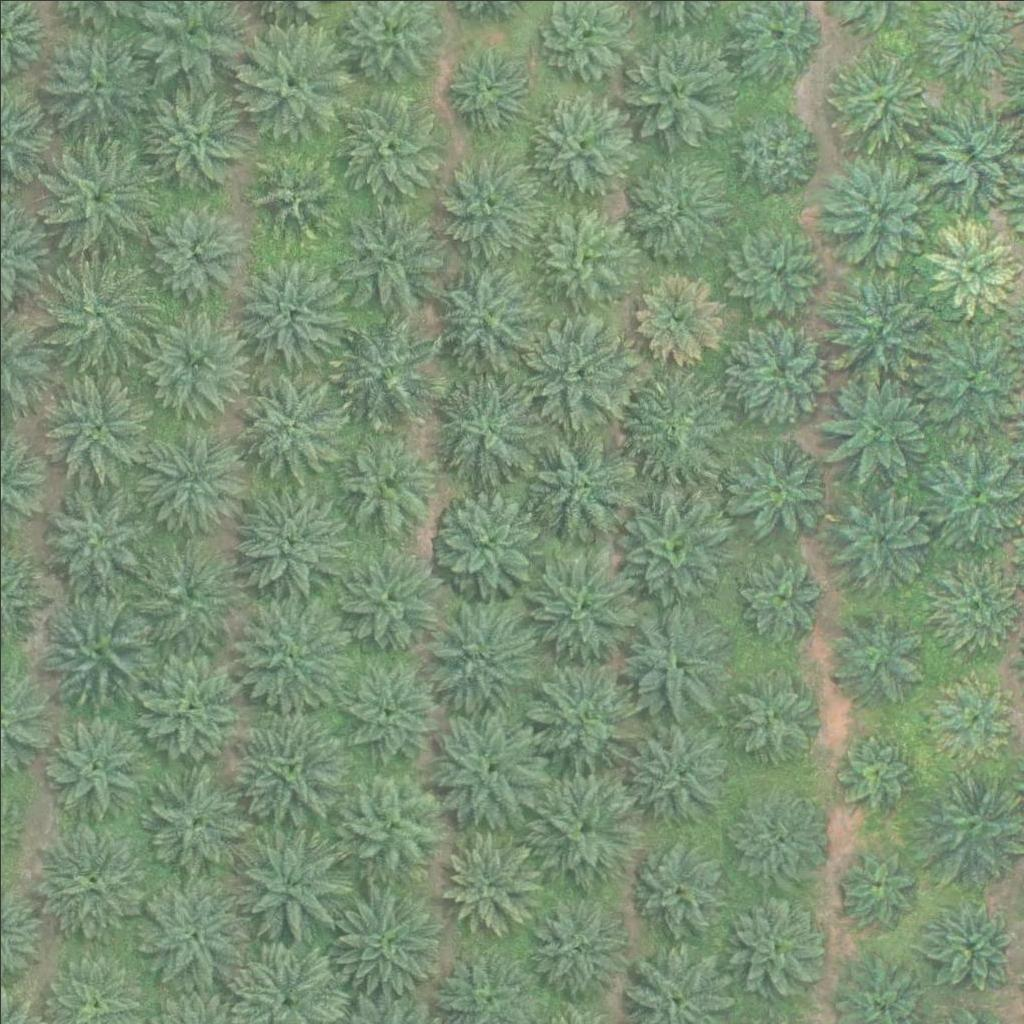Kelapa_Sawit: (819, 370, 932, 484), (336, 769, 449, 883), (231, 711, 344, 825), (231, 593, 344, 707), (132, 537, 245, 651), (131, 422, 244, 536), (822, 147, 935, 261), (232, 831, 345, 944), (330, 882, 443, 995), (623, 830, 736, 943), (622, 717, 735, 830), (616, 604, 729, 717), (616, 490, 729, 603), (526, 549, 639, 662), (524, 423, 637, 536), (521, 313, 634, 426), (235, 481, 348, 594), (228, 363, 341, 476), (135, 304, 248, 417), (40, 137, 153, 250), (41, 32, 154, 145), (138, 83, 251, 196), (429, 260, 542, 373), (821, 273, 934, 386), (131, 647, 243, 761), (39, 482, 151, 596), (40, 365, 152, 479), (34, 822, 146, 935), (131, 875, 243, 988), (616, 368, 728, 481), (531, 771, 643, 884), (528, 655, 640, 768), (429, 711, 541, 824), (423, 599, 535, 712), (429, 487, 541, 600), (434, 374, 546, 487), (330, 544, 442, 657), (333, 314, 445, 427), (137, 766, 249, 879), (39, 590, 151, 703), (45, 257, 157, 370), (235, 27, 347, 140), (336, 88, 448, 201), (236, 260, 348, 373), (332, 201, 444, 314), (614, 25, 726, 138), (437, 834, 537, 935), (524, 896, 624, 997), (824, 610, 924, 711), (829, 485, 929, 586), (723, 660, 823, 761), (730, 437, 830, 538), (333, 433, 433, 534), (41, 713, 141, 814), (440, 158, 540, 259), (529, 207, 629, 308), (722, 221, 822, 322), (620, 161, 720, 262), (726, 891, 826, 991), (726, 787, 826, 887), (730, 322, 830, 422), (338, 656, 438, 756), (530, 96, 630, 196), (828, 46, 928, 146), (249, 150, 337, 239), (929, 670, 1017, 758), (828, 730, 916, 818), (738, 554, 826, 642), (634, 273, 722, 361), (928, 901, 1015, 989), (930, 565, 1017, 653), (448, 47, 535, 135), (149, 208, 236, 296), (928, 228, 1015, 316), (727, 106, 814, 194), (841, 847, 916, 923)
